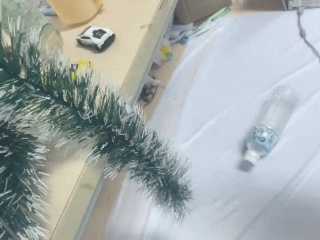bottle: (238, 83, 300, 171)
box: (173, 1, 231, 26)
toy_car: (76, 26, 116, 54)
